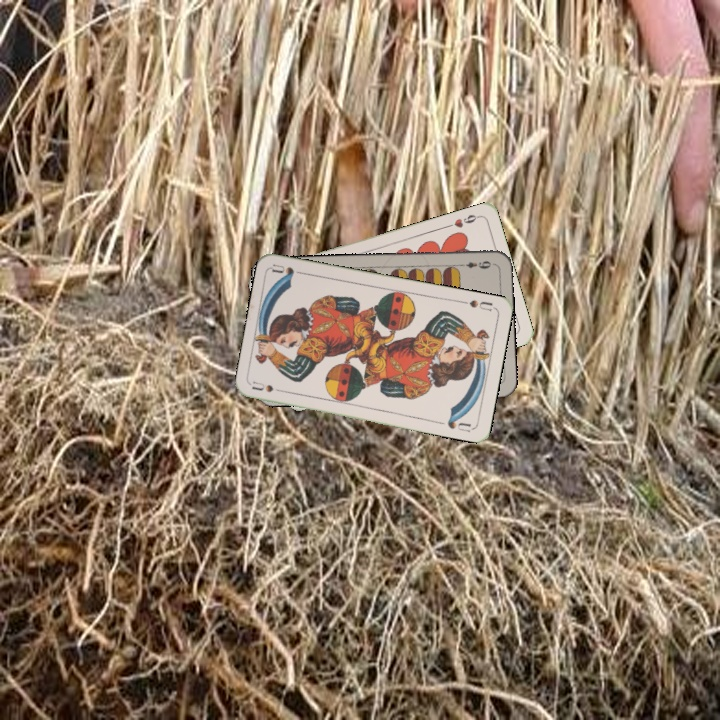E9: (455, 257, 493, 271)
H9: (443, 210, 482, 230)
SU: (456, 296, 497, 314), (248, 377, 289, 395)
